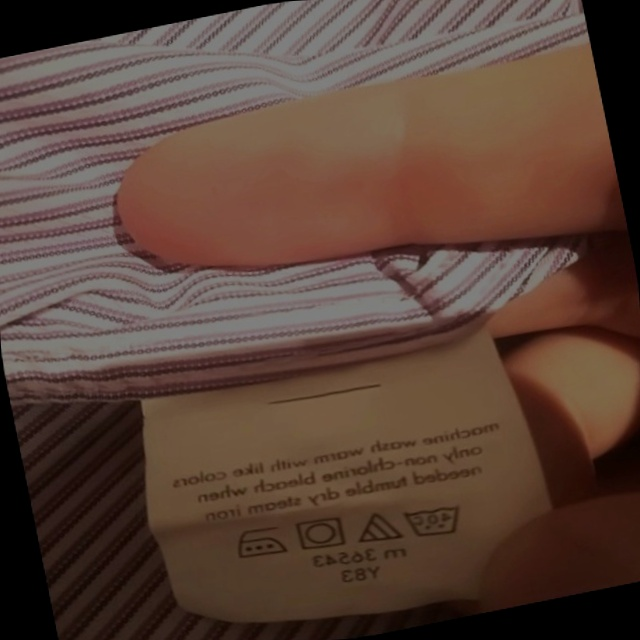40C: (398, 496, 468, 548)
iron_high: (226, 518, 290, 567)
non_chlorine_bleach: (351, 505, 406, 551)
tumble_dry_normal: (289, 512, 349, 558)
